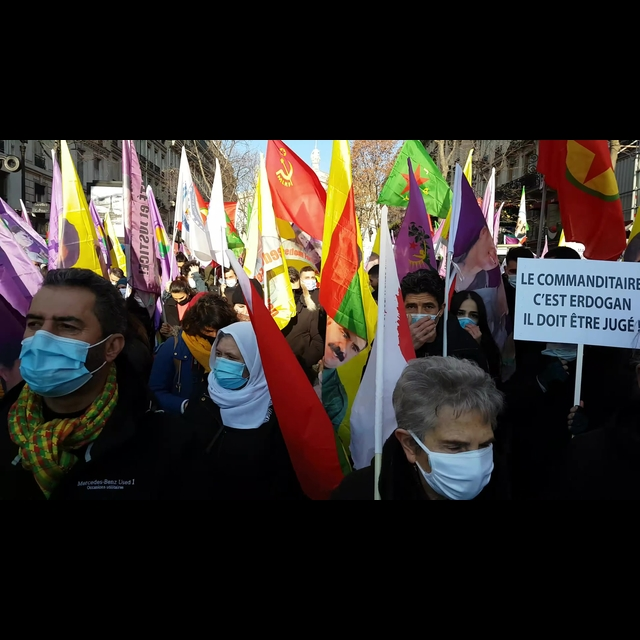MLKP: (275, 146, 296, 195)
